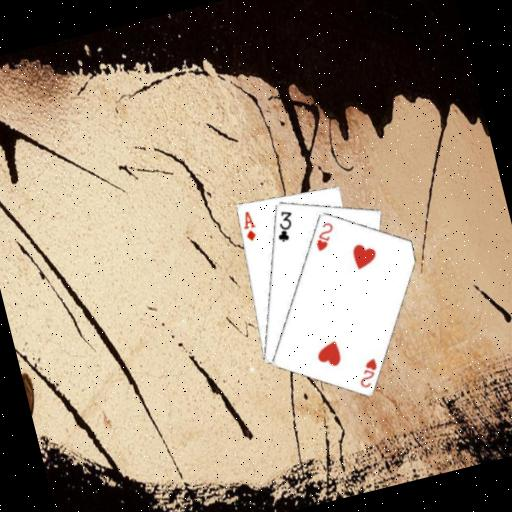2H: (308, 217, 340, 254), (352, 354, 384, 391)
3C: (269, 206, 300, 246)
AD: (237, 208, 260, 244)
